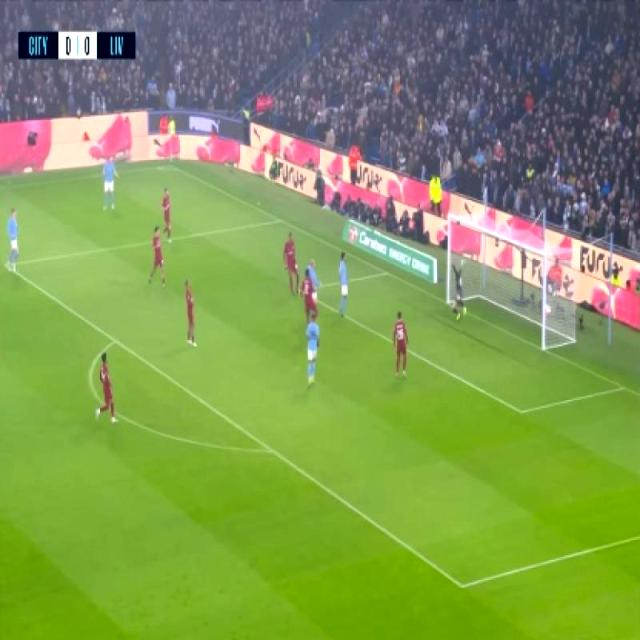bigarea_bottom_inner: (452, 572, 470, 598)
bigarea_top_inner: (3, 256, 12, 274)
bigarea_top_outter: (275, 214, 285, 224)
bottom_arc_area_intersection: (264, 442, 279, 458)
corner: (162, 162, 175, 168)
smallarea_bottom_inner: (511, 397, 529, 423)
smallarea_bottom_outter: (614, 377, 628, 395)
smallarea_top_outter: (381, 268, 389, 278)
top_arc_area_intersection: (110, 332, 120, 348)
